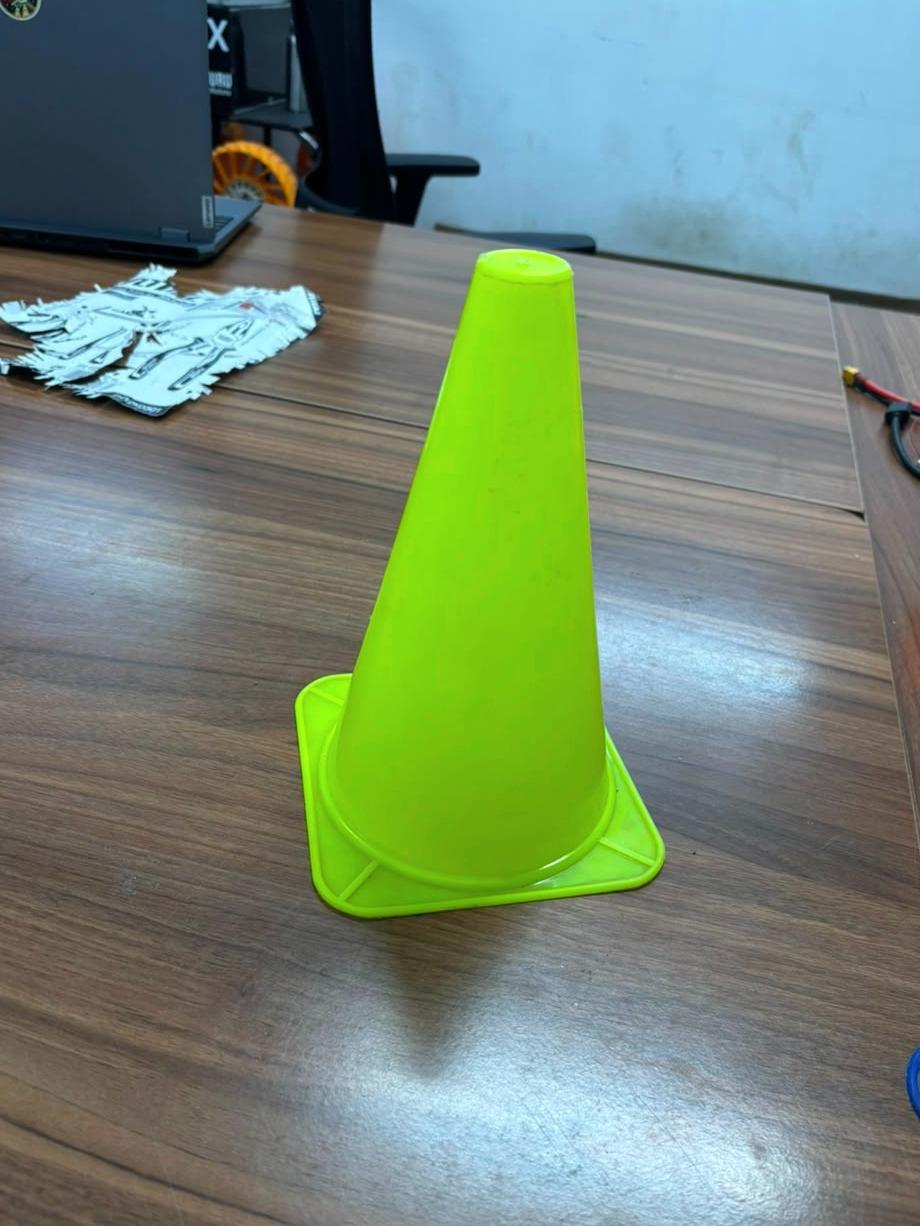0 cone: (295, 249, 664, 917)
